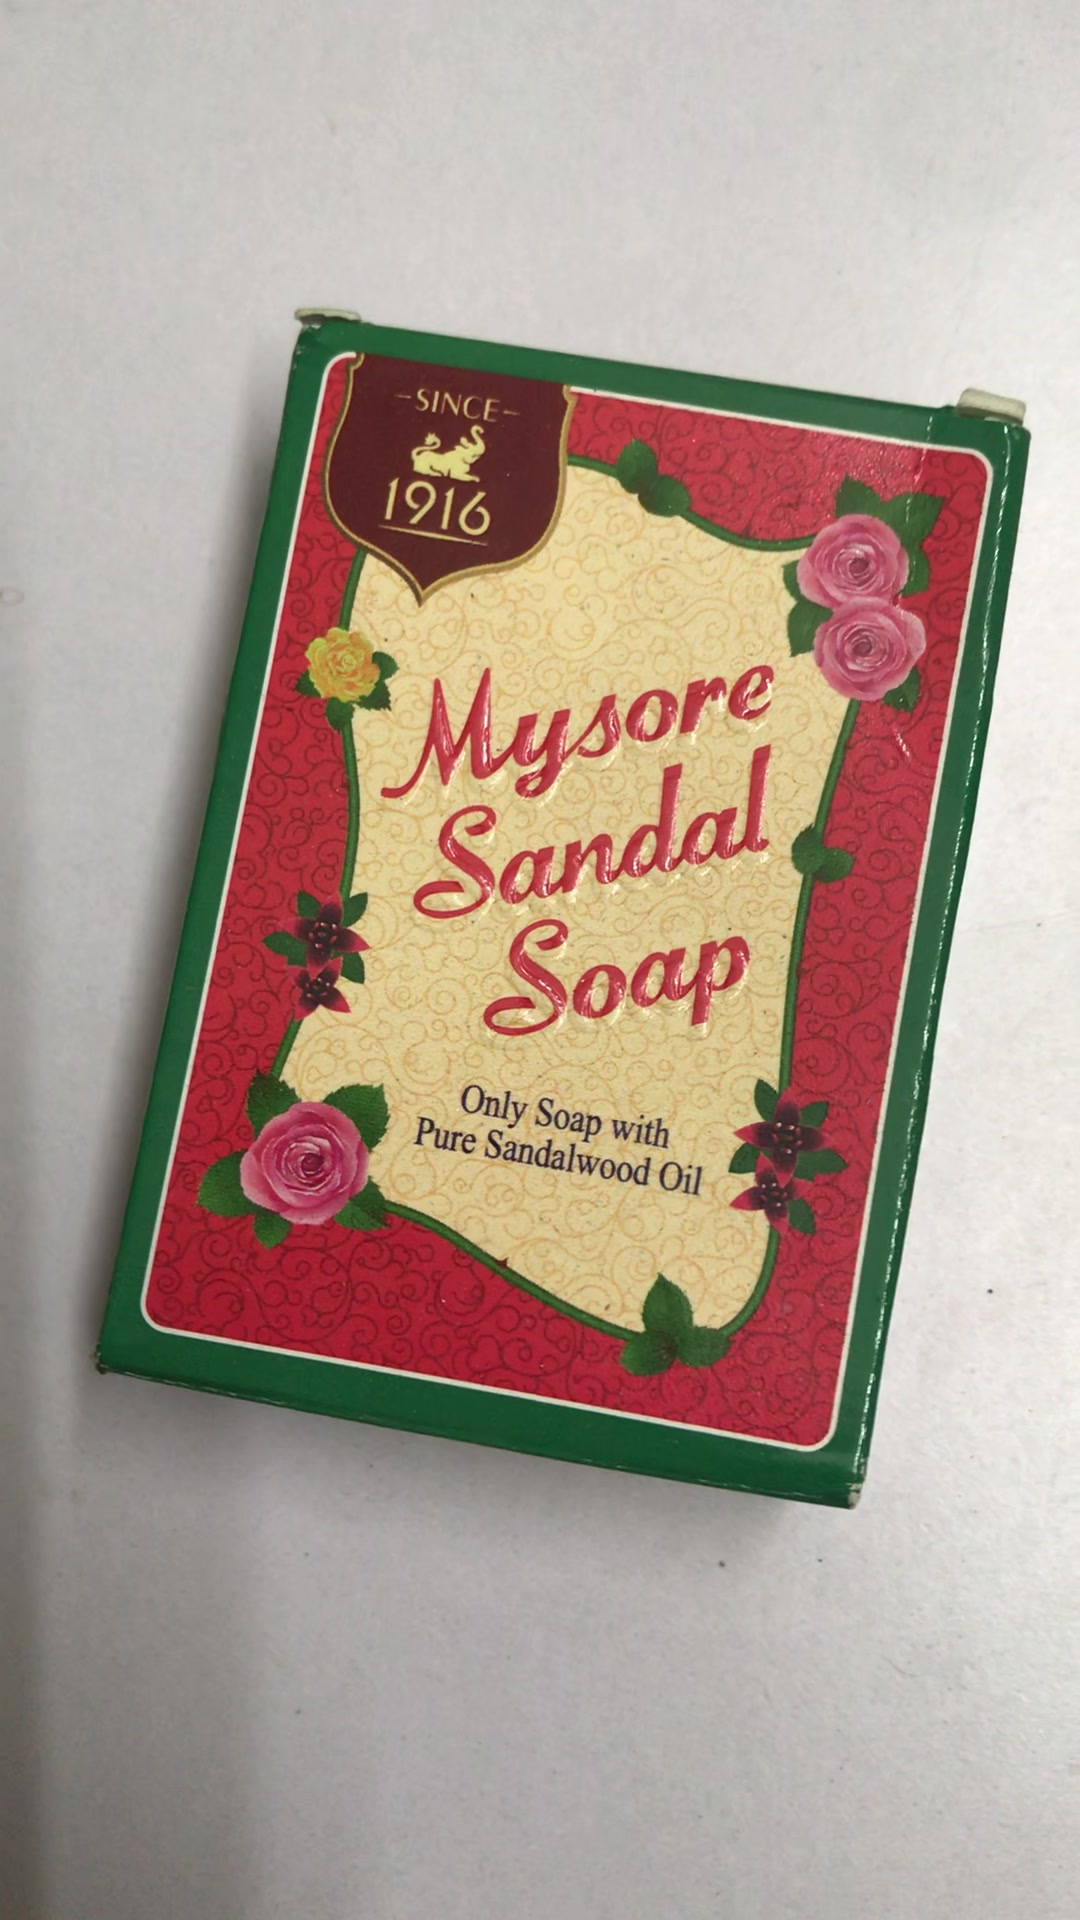mysore sandal soap: (90, 298, 1038, 1513)
